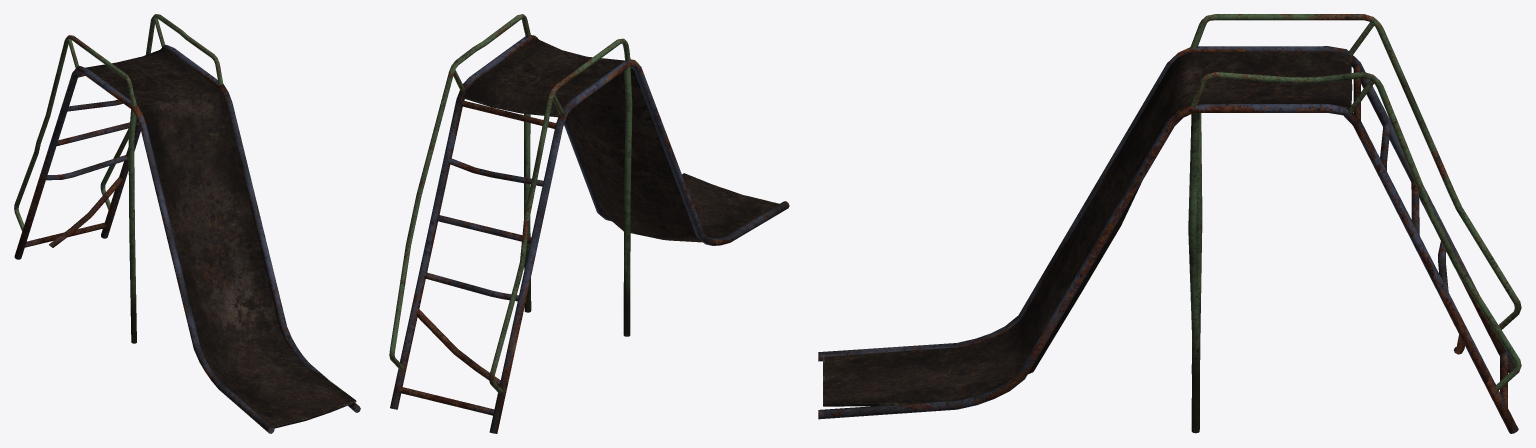
Rendered from CPG_01.fbx.
3 renders of one model, left to right at view 1: azimuth 30°, elevation 25°; view 2: azimuth 150°, elevation 25°; view 3: azimuth 270°, elevation 25°, orthographic. The views are drawn at different scales.
Parts seen in each view (by area): view 1: CPG_01; view 2: CPG_01; view 3: CPG_01.
Part boxes in pixels (left/top/right/bottom): CPG_01: left=14, top=14, right=360, bottom=433; CPG_01: left=389, top=14, right=789, bottom=433; CPG_01: left=818, top=14, right=1521, bottom=433.
Bounding box in the file's own units: 93.82 × 233 × 411.
